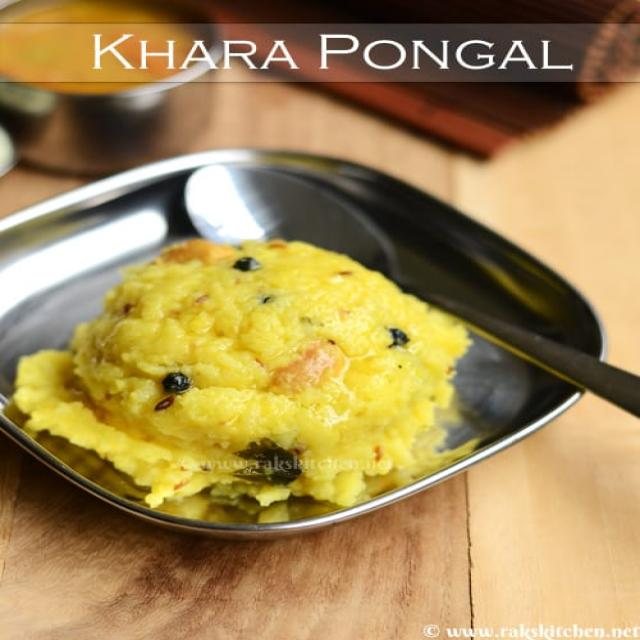khara pongal: (0, 226, 505, 526)
